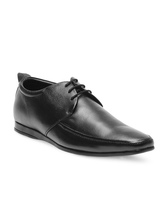shoes: (10, 71, 159, 156)
